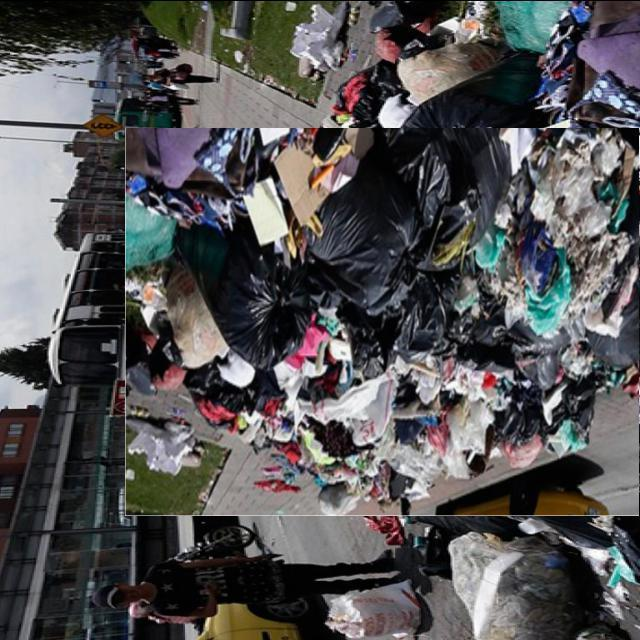Trashbag: (181, 224, 317, 365), (301, 181, 424, 291), (408, 132, 517, 230)
